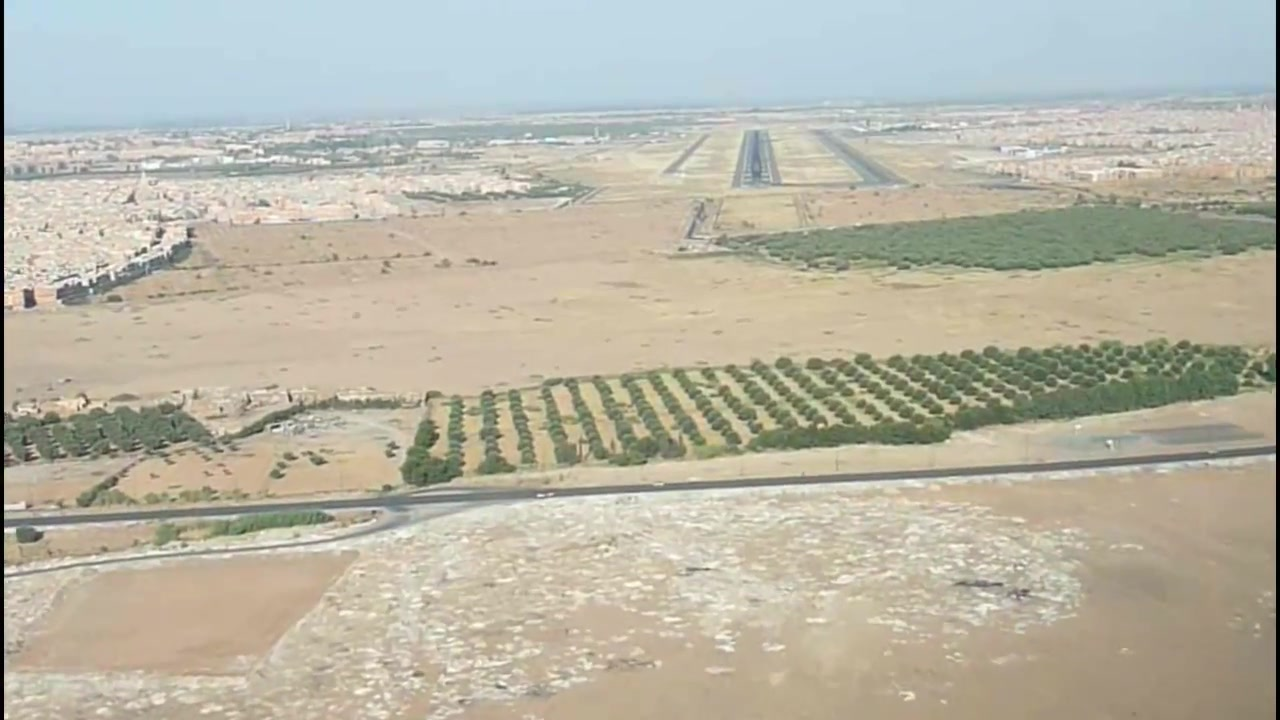runway: (733, 131, 780, 187)
